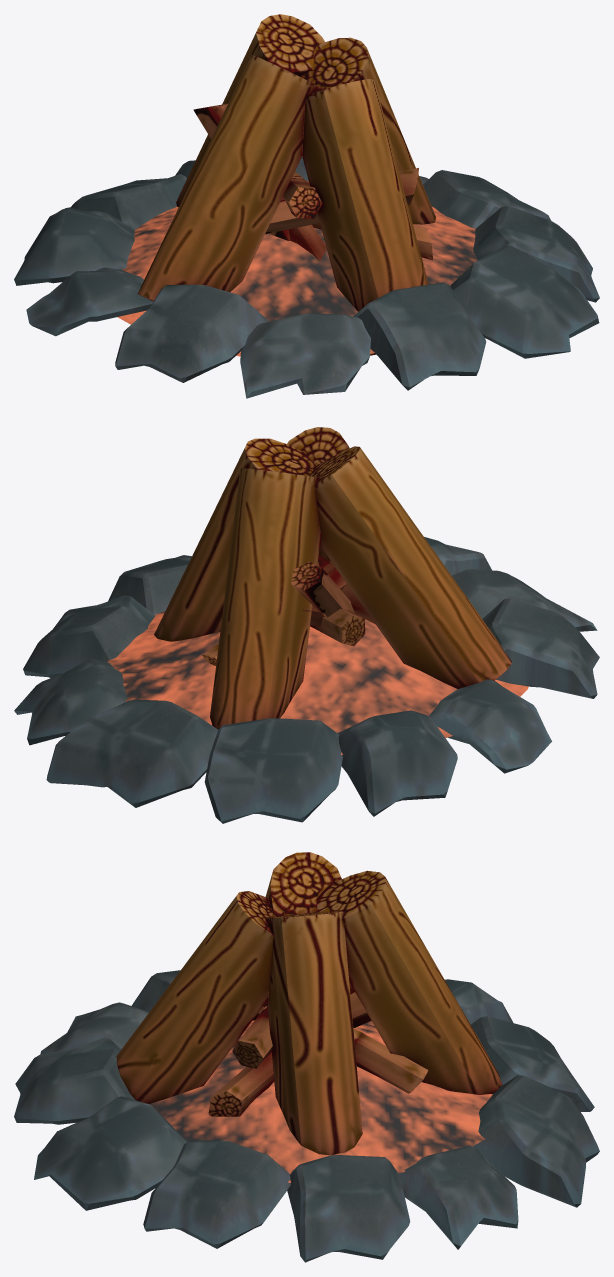
File: lowpoly_bonfire.glb
3 views of the same model, one above another, from view 1: azimuth 30°, elevation 25°; view 2: azimuth 150°, elevation 25°; view 3: azimuth 270°, elevation 25° (orthographic).
Parts seen in each view (by area): view 1: palo1_4; view 2: palo1_4; view 3: palo1_4.
Boxes of the visible parts, <box> form: palo1_4: <box>14,14,599,398</box>; palo1_4: <box>14,427,599,823</box>; palo1_4: <box>14,852,599,1262</box>.
Size of the model in its own units: 6.42 by 3.29 by 6.42.
1 material, 1 textured.
